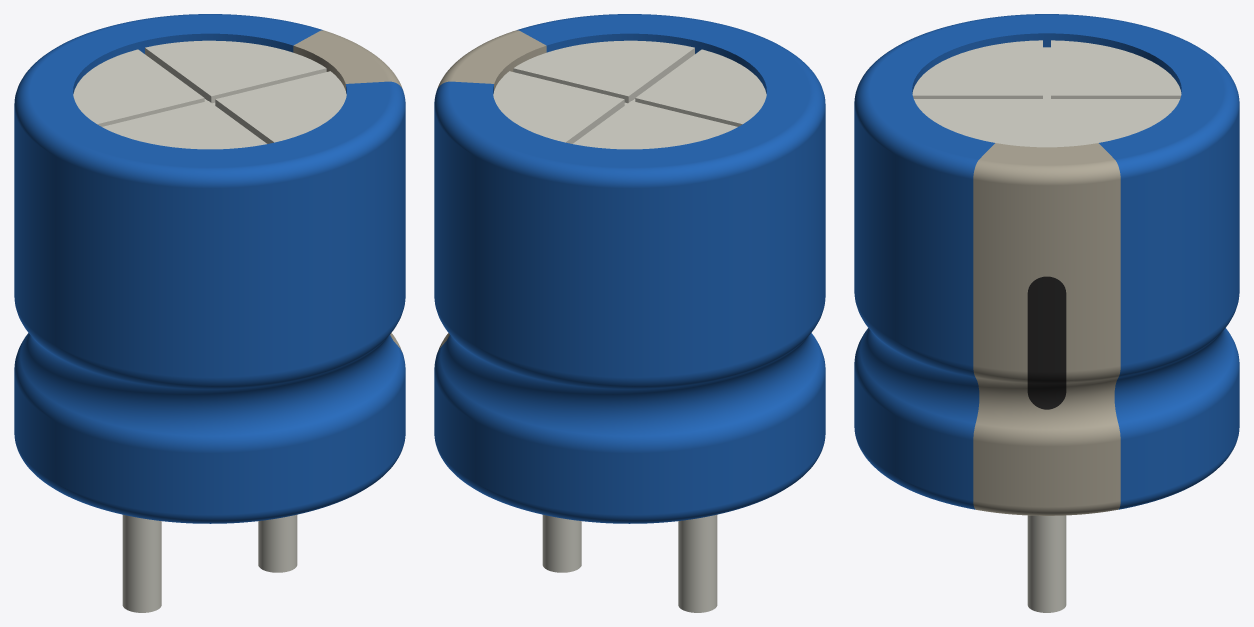
Rendered from cp_radial_d5_0mm_p2_00mm.glb.
The picture shows the model from 3 angles, left to right: view 1: azimuth 30°, elevation 25°; view 2: azimuth 150°, elevation 25°; view 3: azimuth 270°, elevation 25°; orthographic projection.
Parts seen in each view (by area): view 1: cap_elec_d5, pin_1, pin_2; view 2: cap_elec_d5, pin_1, pin_2; view 3: cap_elec_d5, pin_2.
Part boxes in pixels (box(x1,y1,x2,y2)): cap_elec_d5: box(14, 14, 405, 523); pin_1: box(122, 514, 161, 612); pin_2: box(258, 514, 297, 572); cap_elec_d5: box(434, 14, 825, 523); pin_1: box(678, 514, 717, 612); pin_2: box(542, 514, 581, 572); cap_elec_d5: box(854, 14, 1239, 515); pin_2: box(1027, 515, 1066, 612).
Size of the model in its own units: 0.005 by 0.007 by 0.005.
